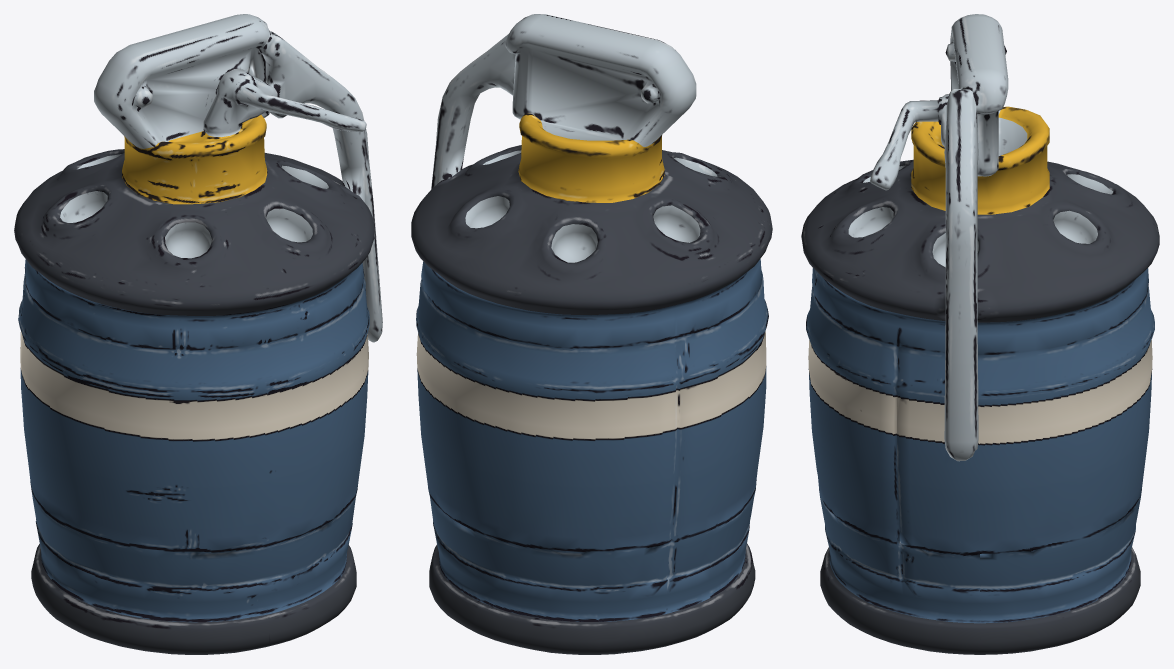
File: smoke.glb
3 renders of one model, left to right at view 1: azimuth 30°, elevation 25°; view 2: azimuth 150°, elevation 25°; view 3: azimuth 270°, elevation 25°, orthographic. The views are drawn at different scales.
Parts seen in each view (by area): view 1: Smoke; view 2: Smoke; view 3: Smoke.
Boxes of the visible parts, x1,y1,x2,y2 form: Smoke: (14, 14, 382, 654); Smoke: (411, 14, 772, 654); Smoke: (801, 14, 1159, 654).
Size of the model in its own units: 0.0801 by 0.13 by 0.0771.
Materials: 1 (1 with a texture image).
